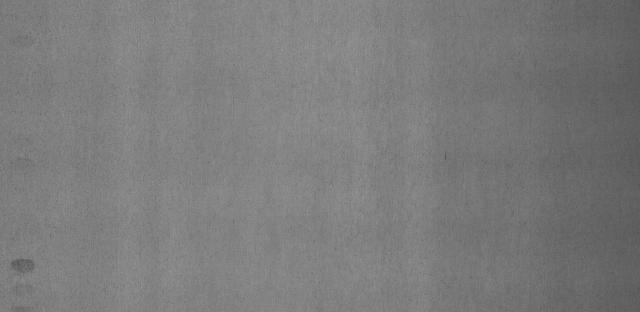oil_spot: (9, 255, 39, 283)
